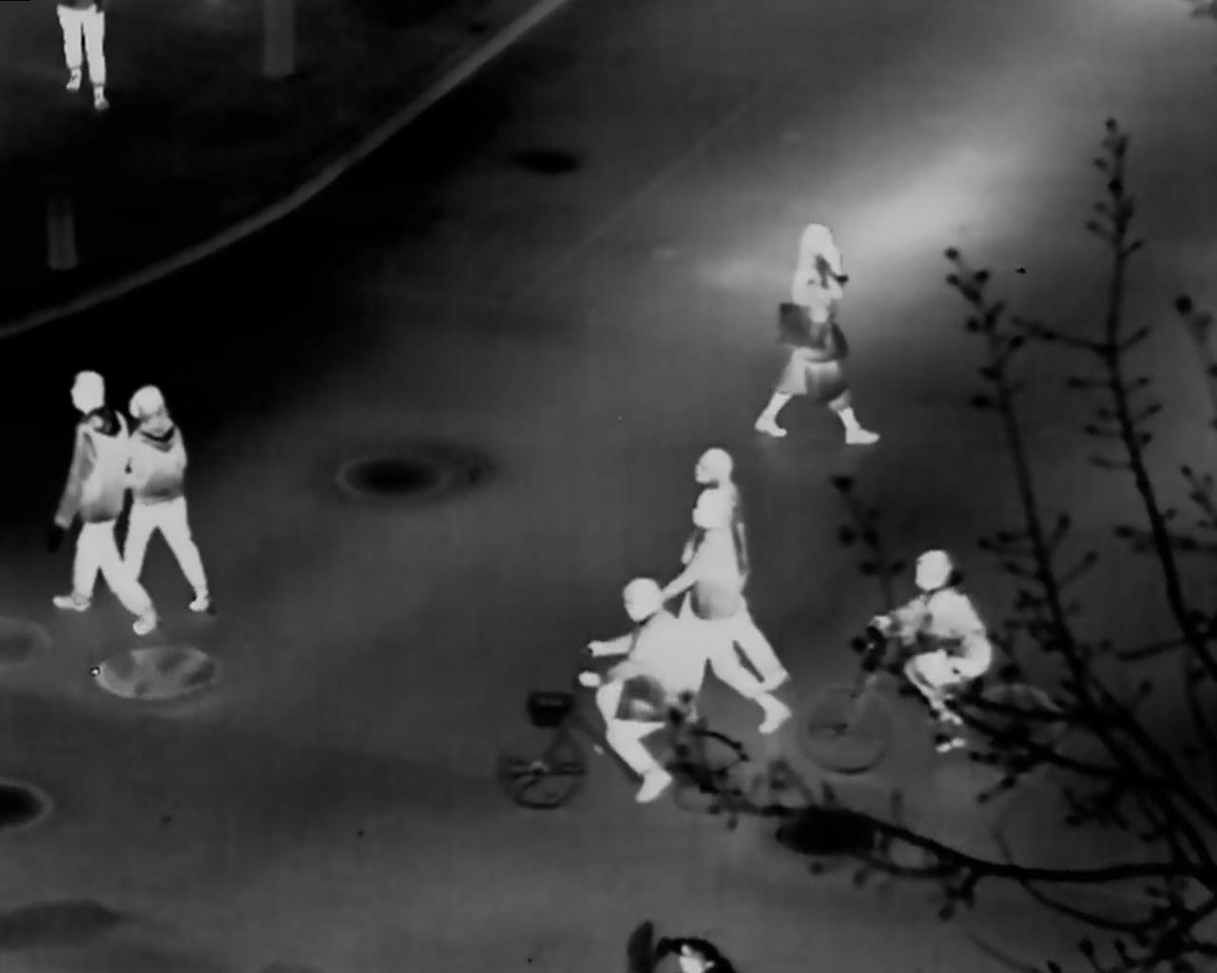person: (662, 485, 790, 737), (576, 576, 705, 805), (753, 220, 881, 448), (51, 368, 158, 637), (866, 544, 995, 754), (118, 383, 221, 617), (51, 3, 109, 111), (692, 448, 738, 491)
